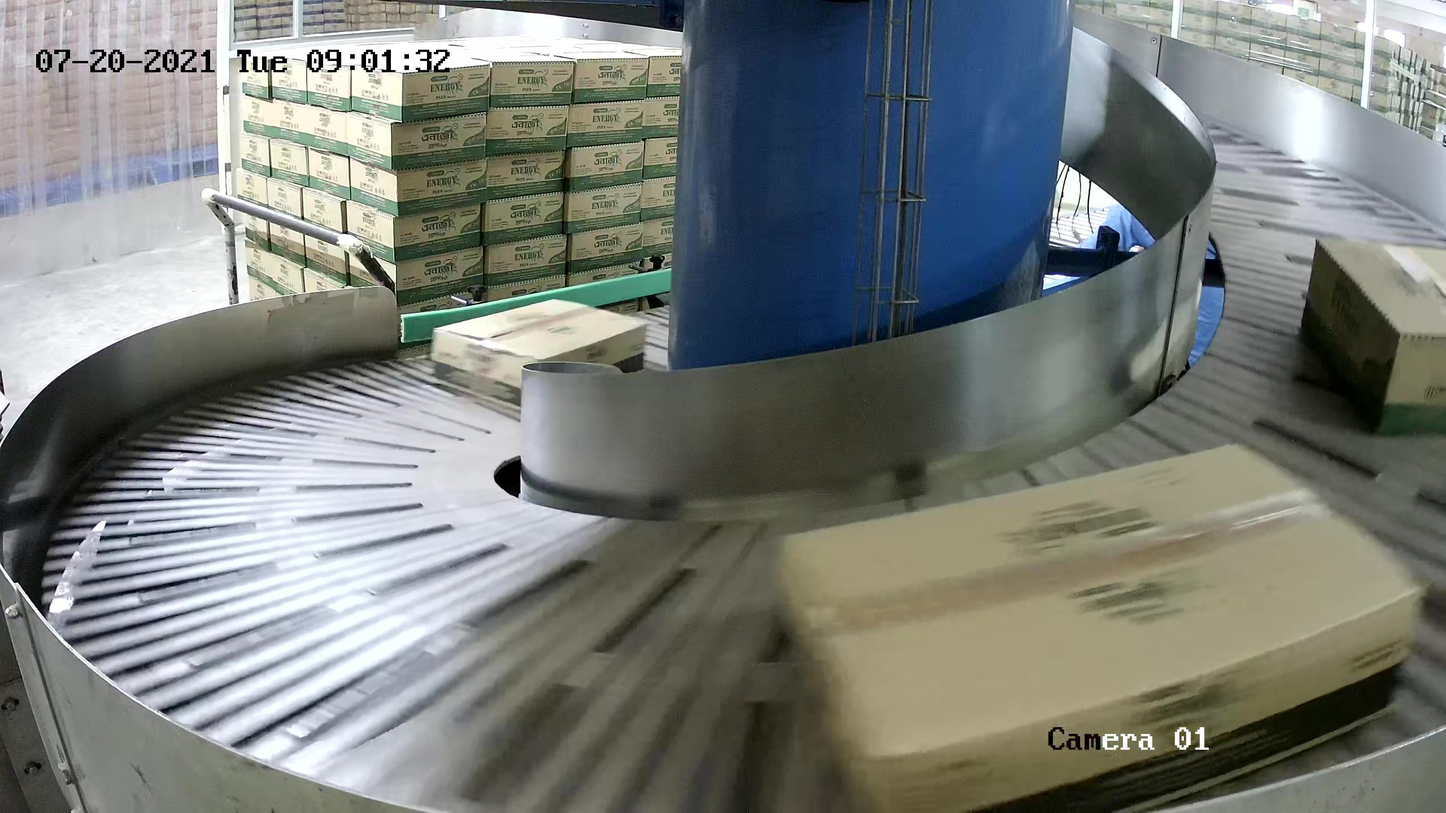Box: (769, 438, 1427, 813), (1300, 236, 1446, 437), (430, 297, 650, 408)
